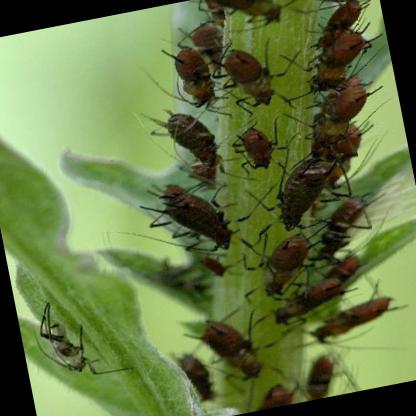uroleucon compositae: (163, 186, 232, 251), (200, 321, 264, 379), (159, 45, 216, 105), (263, 231, 311, 298), (222, 49, 274, 106)
